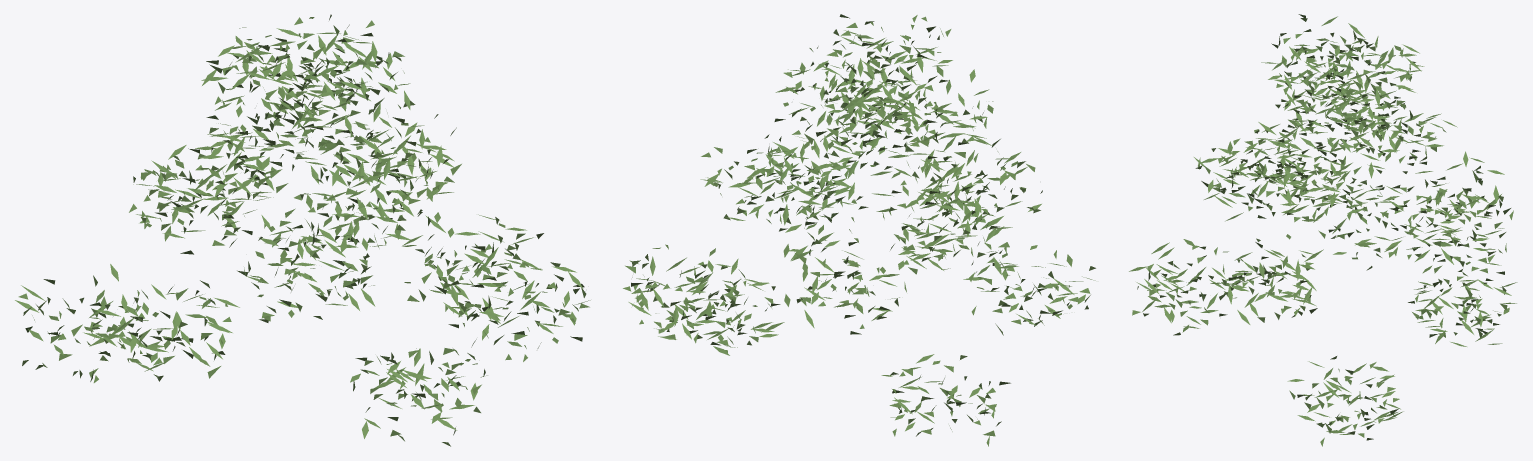
The model's file is teaching3-vegetation-06-medium.glb.
3 views of the same model, side by side, from view 1: azimuth 30°, elevation 25°; view 2: azimuth 150°, elevation 25°; view 3: azimuth 270°, elevation 25° (orthographic). The views are drawn at different scales.
Parts seen in each view (by area): view 1: vegetation cedar leaves; view 2: vegetation cedar leaves; view 3: vegetation cedar leaves.
Part boxes in pixels (<box>): vegetation cedar leaves: <box>15,14,590,446</box>; vegetation cedar leaves: <box>623,14,1095,446</box>; vegetation cedar leaves: <box>1129,14,1517,446</box>.
Bounding box in the file's own units: 12.26 × 8.73 × 9.97.
